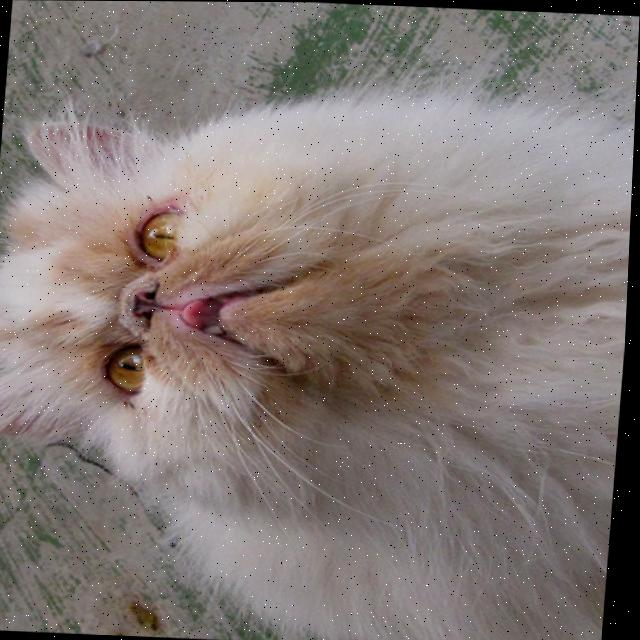Persian: (0, 71, 638, 640)
